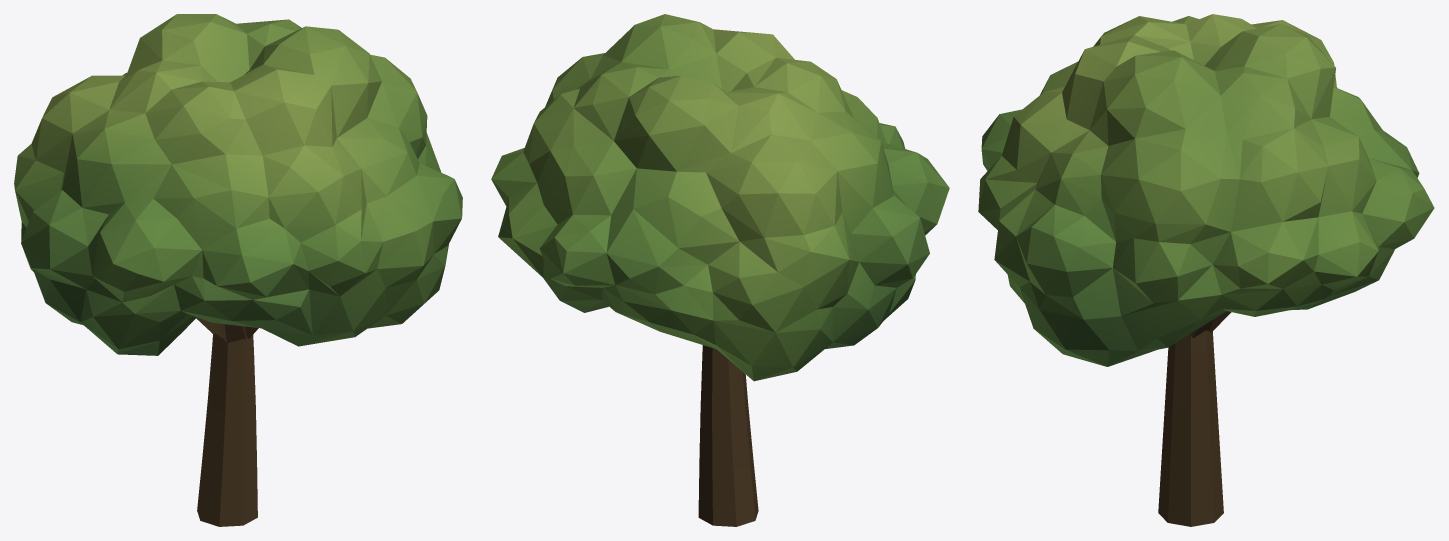
File: OakA.glb
3 renders of one model, left to right at view 1: azimuth 30°, elevation 25°; view 2: azimuth 150°, elevation 25°; view 3: azimuth 270°, elevation 25°, orthographic. The views are drawn at different scales.
Visible parts, largest first — view 1: OakA_LOD0; view 2: OakA_LOD0; view 3: OakA_LOD0.
Boxes of the visible parts, bbox=[...] form: OakA_LOD0: bbox=[14, 14, 462, 526]; OakA_LOD0: bbox=[491, 14, 949, 526]; OakA_LOD0: bbox=[978, 14, 1434, 526].
Size of what is drawn, in the model's own units: 4.78 by 5.48 by 4.59.
